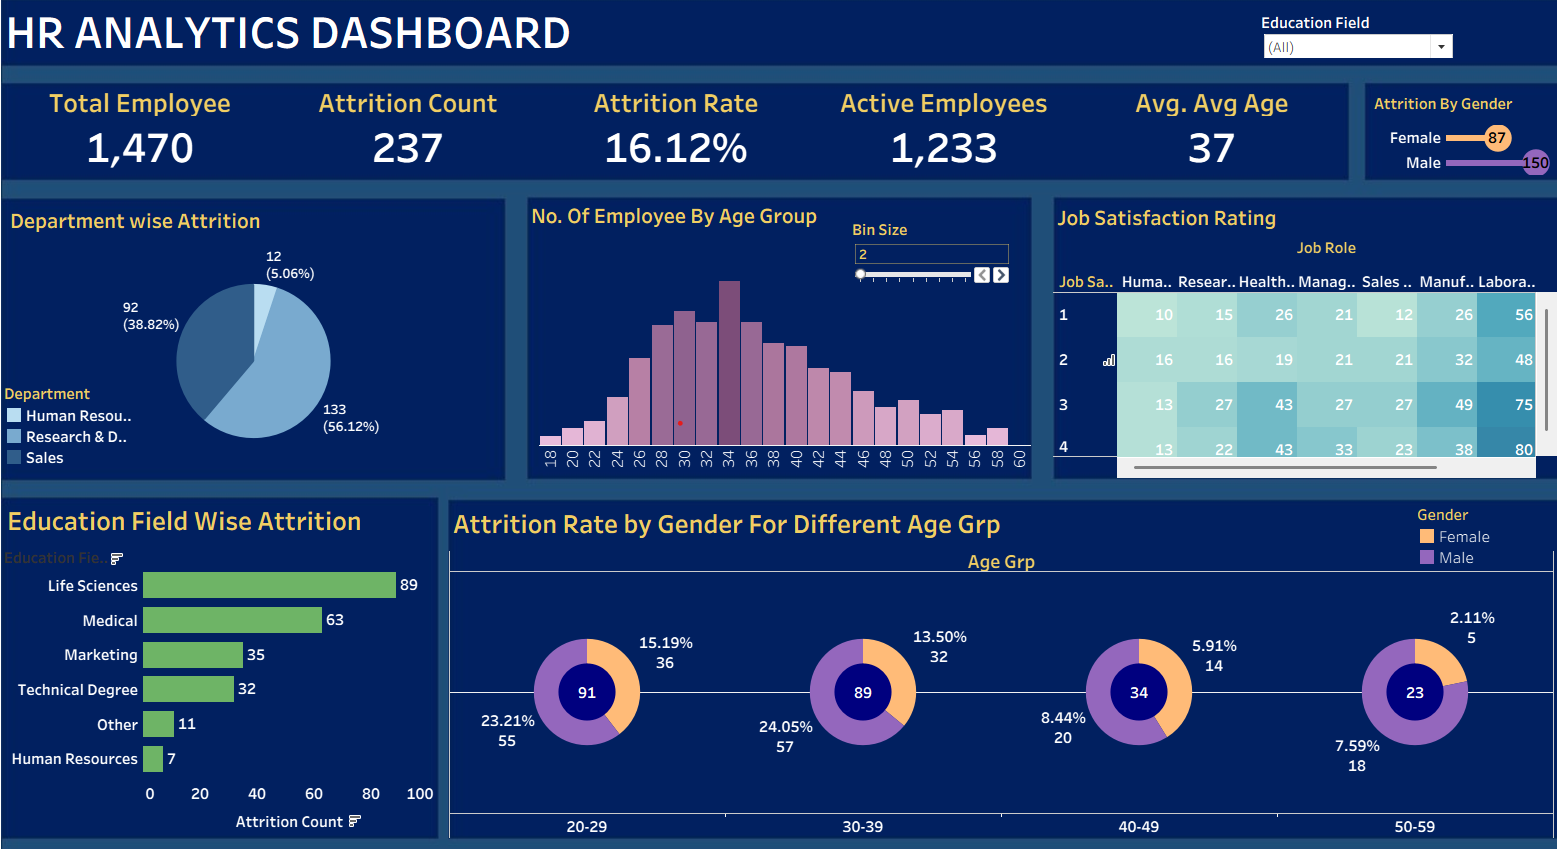

The page's visual inventory and layout, read from the dashboard file:
{"tool":"tableau","page":{"name":"HR ANALYTICS DASHBOARD","canvas":[1580,900],"ordinal":0},"visuals":[{"type":"image","param":"C:/Users/Aadit/OneDrive/Desktop/HR Analytics proj/Background Img.jpg","box":[8,8,1564,884]},{"type":"text","box":[13,31,841,62]},{"type":"filter","title":"No. Of Employee By Age Group","param":"[federated.1sq5vi31kuygv4134tcp61epvdi9].[none:EducationField:nk]","box":[1272,43,195,46]},{"type":"worksheet","title":"KPI","mark":"Automatic","box":[17,119,1340,88]},{"type":"worksheet","title":"Attrition By Gender","mark":"Automatic","rows":["Gender"],"cols":["Calculation_1068197592146591746","Calculation_1068197592146591746"],"box":[1381,120,185,86]},{"type":"worksheet","title":"No. Of Employee By Age Group","mark":"Automatic","rows":["EmployeeCount"],"cols":["Age (bin)"],"box":[538,228,504,284]},{"type":"worksheet","title":"Job Satisfaction Rating","mark":"Square","rows":["JobSatisfaction"],"cols":["JobRole"],"box":[1064,230,504,279]},{"type":"worksheet","title":"Department wise Attrition","mark":"Pie","box":[17,233,495,275]},{"type":"parameter","param":"[Parameters].[Parameter 1]","box":[863,250,160,71]},{"type":"legend","title":"Department wise Attrition","param":"[federated.1sq5vi31kuygv4134tcp61epvdi9].[none:Department:nk]","box":[15,414,134,90]},{"type":"worksheet","title":"Education Field Wise Attrition","mark":"Automatic","rows":["EducationField"],"cols":["Calculation_1068197592146591746"],"box":[14,530,433,340]},{"type":"worksheet","title":"Attrition Rate by Gender For Different Age Grp","mark":"Pie","rows":["Calculation_1288311024511729665","Calculation_1288311024511729665"],"cols":["Age Grp"],"box":[460,533,1105,337]},{"type":"legend","title":"Attrition Rate by Gender For Different Age Grp","param":"[federated.1sq5vi31kuygv4134tcp61epvdi9].[none:Gender:nk]","box":[1428,535,140,64]}]}

Visuals, with their boxes on the page's 1580x900 design canvas (x1, y1, x2, y2). These are canvas units, not pixel positions in the 1561x849 screenshot, which may show the page scaled, cropped or inside an application window:
image: box=[8, 8, 1572, 892]
text: box=[13, 31, 854, 93]
"No. Of Employee By Age Group" filter: box=[1272, 43, 1467, 89]
"KPI" worksheet: box=[17, 119, 1357, 207]
"Attrition By Gender" worksheet: box=[1381, 120, 1566, 206]
"No. Of Employee By Age Group" worksheet: box=[538, 228, 1042, 512]
"Job Satisfaction Rating" worksheet (Square marks): box=[1064, 230, 1568, 509]
"Department wise Attrition" worksheet (Pie marks): box=[17, 233, 512, 508]
parameter: box=[863, 250, 1023, 321]
"Department wise Attrition" legend: box=[15, 414, 149, 504]
"Education Field Wise Attrition" worksheet: box=[14, 530, 447, 870]
"Attrition Rate by Gender For Different Age Grp" worksheet (Pie marks): box=[460, 533, 1565, 870]
"Attrition Rate by Gender For Different Age Grp" legend: box=[1428, 535, 1568, 599]
